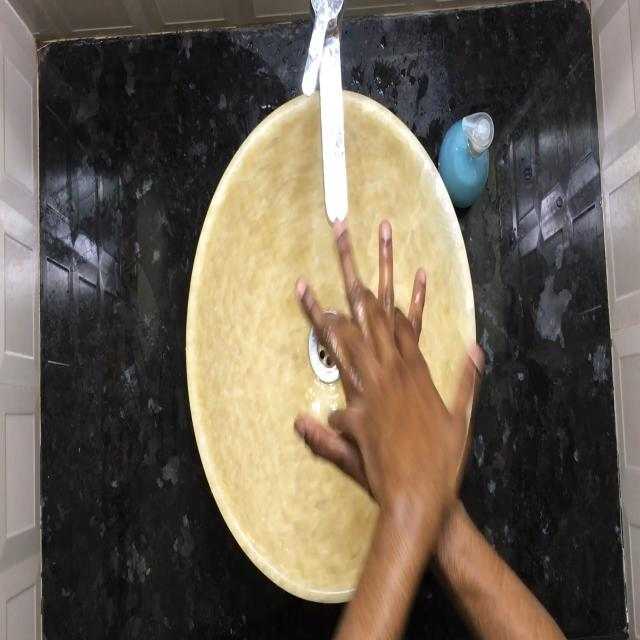step_2: (290, 207, 444, 482)
